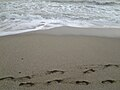human_footprint: (46, 67, 66, 75), (18, 82, 36, 88), (73, 79, 91, 85), (82, 68, 98, 74), (104, 62, 120, 68), (102, 78, 118, 84), (47, 80, 65, 85), (0, 76, 16, 81), (18, 76, 34, 80)
